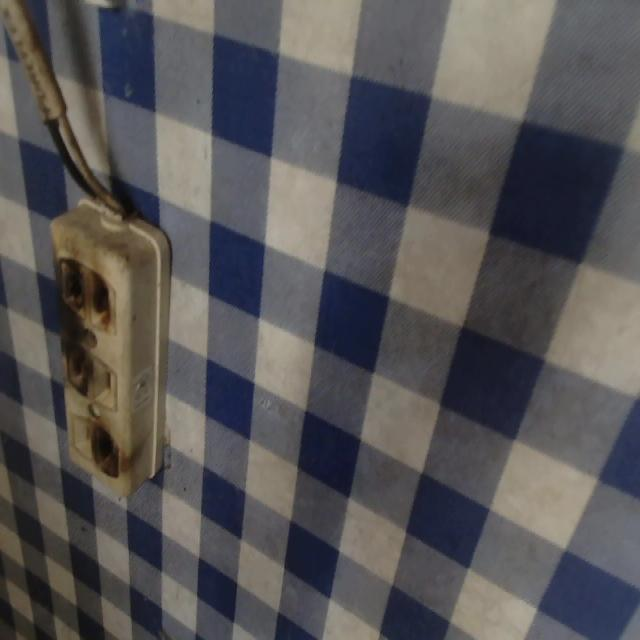-: (53, 252, 115, 333), (61, 337, 95, 392), (91, 424, 122, 477)
